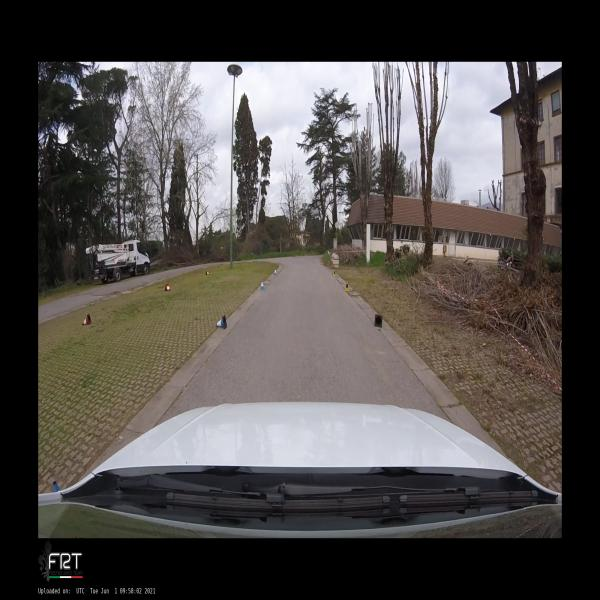blue_cone: (216, 315, 227, 330), (260, 280, 265, 290), (274, 269, 277, 275)
orange_cone: (82, 314, 92, 325), (165, 283, 171, 291), (206, 271, 209, 275)
unknown_cone: (374, 314, 383, 328)
yellow_cone: (344, 281, 350, 292), (332, 270, 335, 277)
